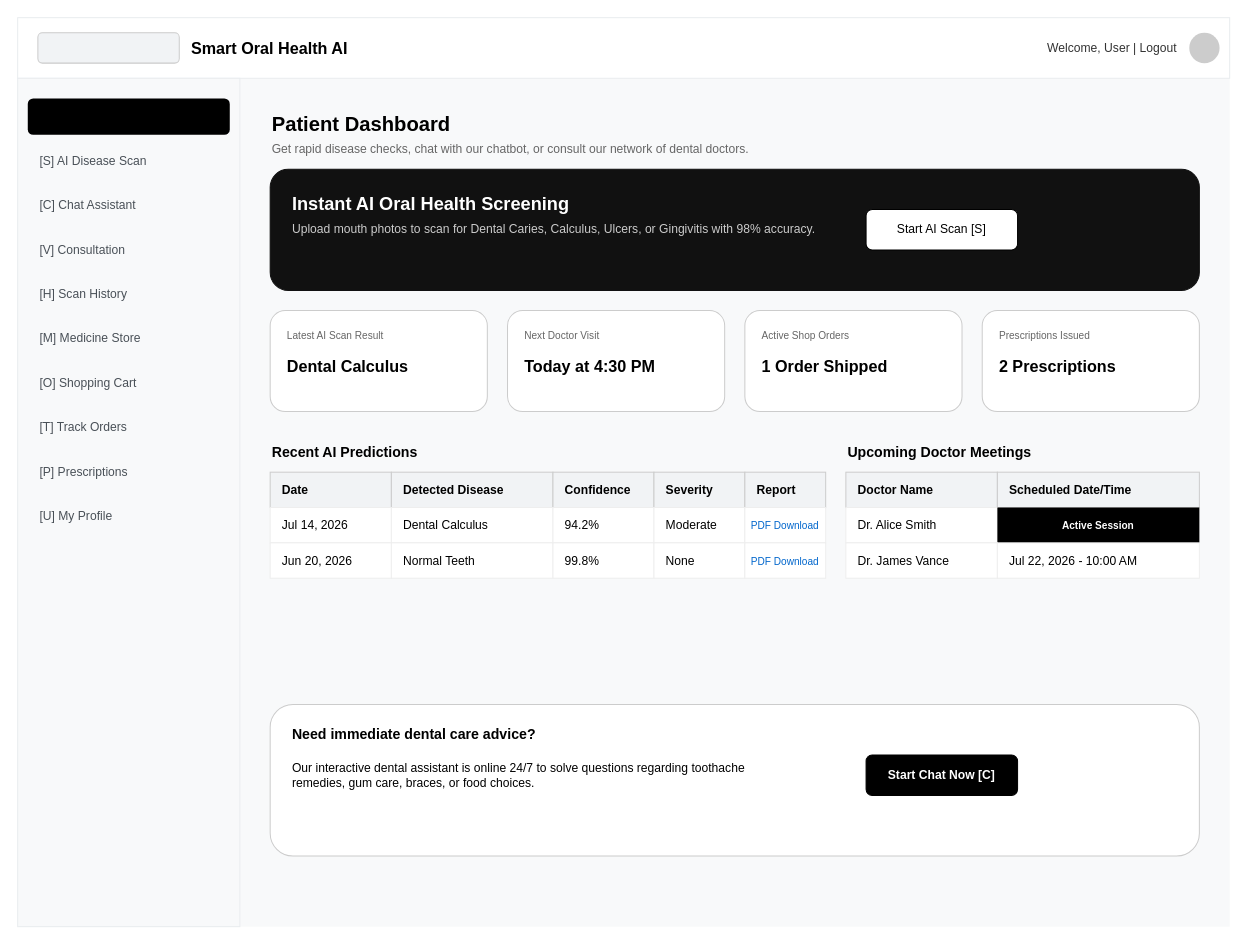
Some shapes in this 1247 by 944 pixel diagram are drawn without their labels. Each missing label, with the centre of its shape:
"[D] Dashboard" belongs at pixel 128 116.
"Tooth Mascot [Animated]" belongs at pixel 108 47.
